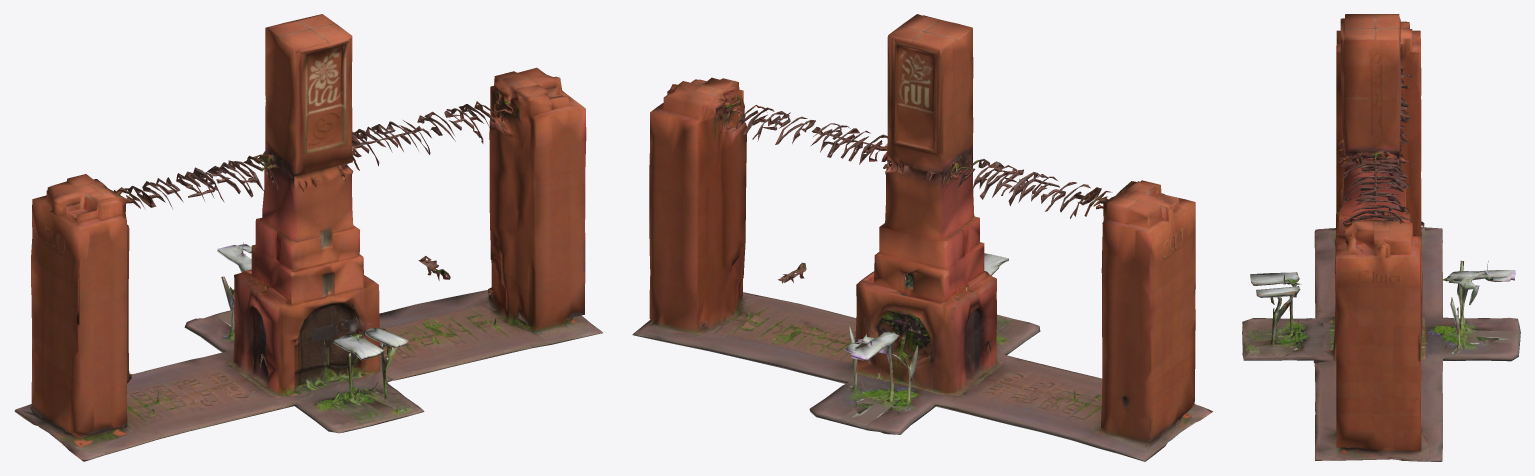
Rendered from UniEntrace.fbx.
3 views of the same model, side by side, from view 1: azimuth 30°, elevation 25°; view 2: azimuth 150°, elevation 25°; view 3: azimuth 270°, elevation 25° (orthographic). The views are drawn at different scales.
Visible parts, largest first — view 1: Mesh1; view 2: Mesh1; view 3: Mesh1.
Boxes of the visible parts, x1,y1,x2,y2 form: Mesh1: (14,14,602,461); Mesh1: (632,14,1212,461); Mesh1: (1242,14,1520,461).
Bounding box in the file's own units: 200 × 127 × 101.
1 material, 1 textured.
